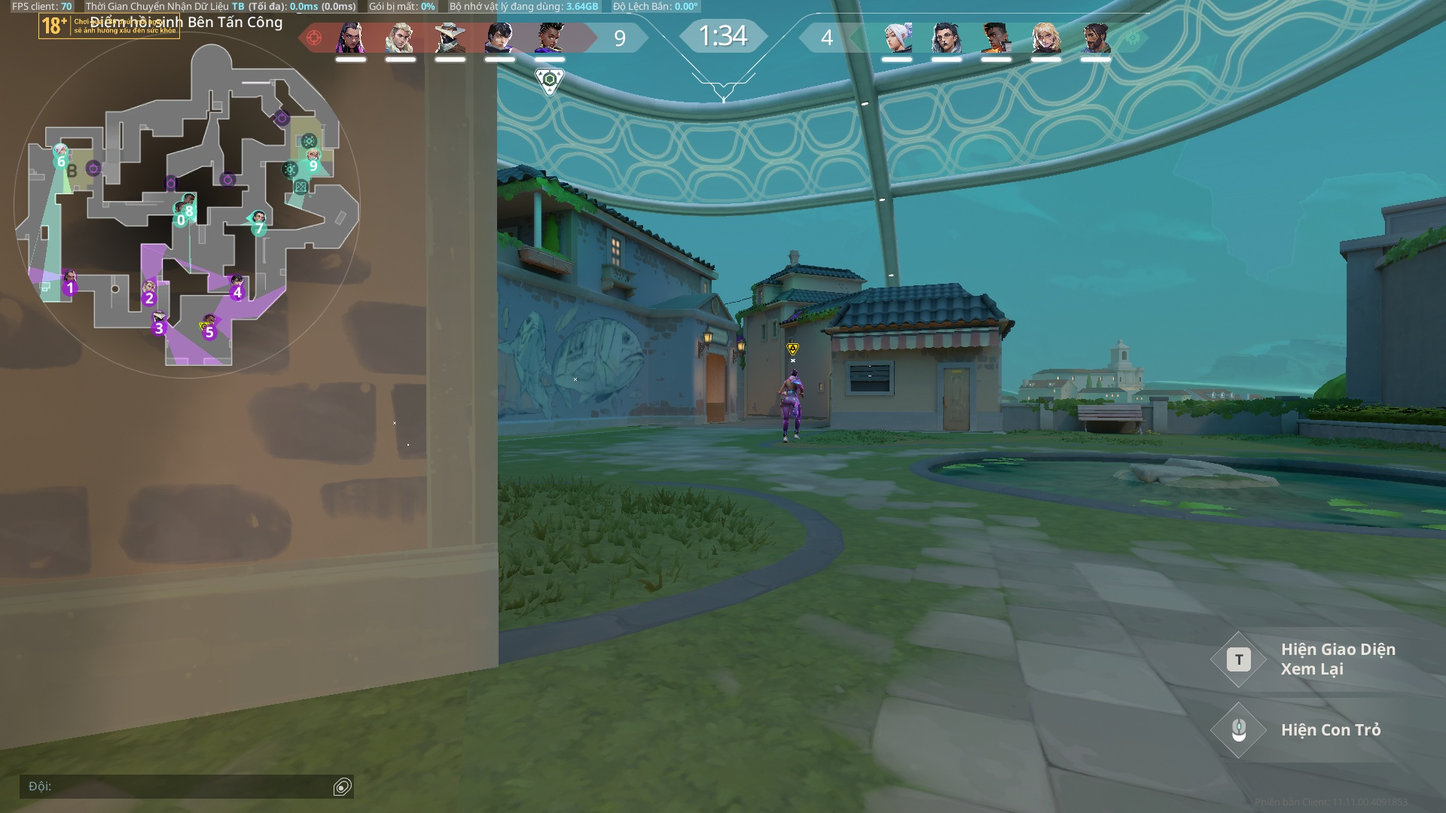body: (783, 376, 797, 397)
head: (789, 370, 798, 379)
